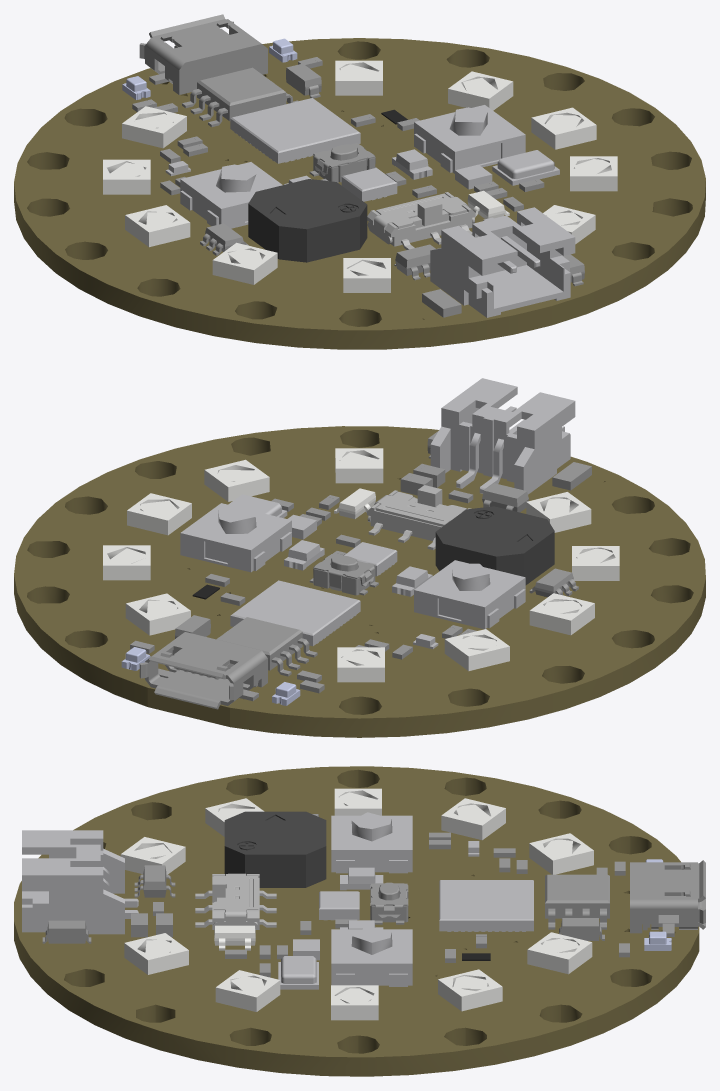
File: ada-3333.glb
3 views of the same model, one above another, from view 1: azimuth 30°, elevation 25°; view 2: azimuth 150°, elevation 25°; view 3: azimuth 270°, elevation 25° (orthographic).
Parts seen in each view (by area): view 1: 0.16666666666666666_0.16666666666666666_0.08333333333333333_, 0.5833333333333334_0.5833333333333334_0.5833333333333334_0.8, 0.3333333333333333_0.3333333333333333_0.3333333333333333_0, 0.9166666666666666_0.9166666666666666_0.9166666666666666_0.8, 0.08333333333333333_0.08333333333333333_0.08333333333333333_, 0.5_0.5_0.5_0.85, 0.5833333333333334_0.6666666666666666_0.8333333333333334_0; view 2: 0.16666666666666666_0.16666666666666666_0.08333333333333333_, 0.5833333333333334_0.5833333333333334_0.5833333333333334_0.8, 0.9166666666666666_0.9166666666666666_0.9166666666666666_0.8, 0.3333333333333333_0.3333333333333333_0.3333333333333333_0, 0.08333333333333333_0.08333333333333333_0.08333333333333333_, 0.5_0.5_0.5_0.85, 0.5833333333333334_0.6666666666666666_0.8333333333333334_0; view 3: 0.16666666666666666_0.16666666666666666_0.08333333333333333_, 0.5833333333333334_0.5833333333333334_0.5833333333333334_0.8, 0.9166666666666666_0.9166666666666666_0.9166666666666666_0.8, 0.3333333333333333_0.3333333333333333_0.3333333333333333_0, 0.08333333333333333_0.08333333333333333_0.08333333333333333_, 0.5_0.5_0.5_0.85, 0.5833333333333334_0.6666666666666666_0.8333333333333334_0.
Part boxes in pixels (x1,y1,x2,y2): 0.16666666666666666_0.16666666666666666_0.08333333333333333_: [14, 38, 705, 349]; 0.5833333333333334_0.5833333333333334_0.5833333333333334_0.8: [165, 98, 575, 317]; 0.3333333333333333_0.3333333333333333_0.3333333333333333_0: [132, 14, 584, 317]; 0.9166666666666666_0.9166666666666666_0.9166666666666666_0.8: [103, 60, 617, 292]; 0.08333333333333333_0.08333333333333333_0.08333333333333333_: [248, 179, 367, 262]; 0.5_0.5_0.5_0.85: [367, 192, 475, 249]; 0.5833333333333334_0.6666666666666666_0.8333333333333334_0: [122, 38, 297, 99]; 0.16666666666666666_0.16666666666666666_0.08333333333333333_: [14, 426, 705, 737]; 0.5833333333333334_0.5833333333333334_0.5833333333333334_0.8: [180, 378, 575, 649]; 0.9166666666666666_0.9166666666666666_0.9166666666666666_0.8: [103, 448, 619, 682]; 0.3333333333333333_0.3333333333333333_0.3333333333333333_0: [130, 431, 591, 709]; 0.08333333333333333_0.08333333333333333_0.08333333333333333_: [435, 506, 554, 585]; 0.5_0.5_0.5_0.85: [367, 485, 471, 550]; 0.5833333333333334_0.6666666666666666_0.8333333333333334_0: [121, 647, 300, 705]; 0.16666666666666666_0.16666666666666666_0.08333333333333333_: [14, 766, 699, 1076]; 0.5833333333333334_0.5833333333333334_0.5833333333333334_0.8: [22, 812, 533, 989]; 0.9166666666666666_0.9166666666666666_0.9166666666666666_0.8: [120, 788, 593, 1020]; 0.3333333333333333_0.3333333333333333_0.3333333333333333_0: [42, 814, 705, 977]; 0.08333333333333333_0.08333333333333333_0.08333333333333333_: [224, 811, 326, 887]; 0.5_0.5_0.5_0.85: [195, 873, 276, 929]; 0.5833333333333334_0.6666666666666666_0.8333333333333334_0: [644, 859, 671, 950].
Bounding box in the file's own units: 5.08 × 0.6368 × 5.1.
